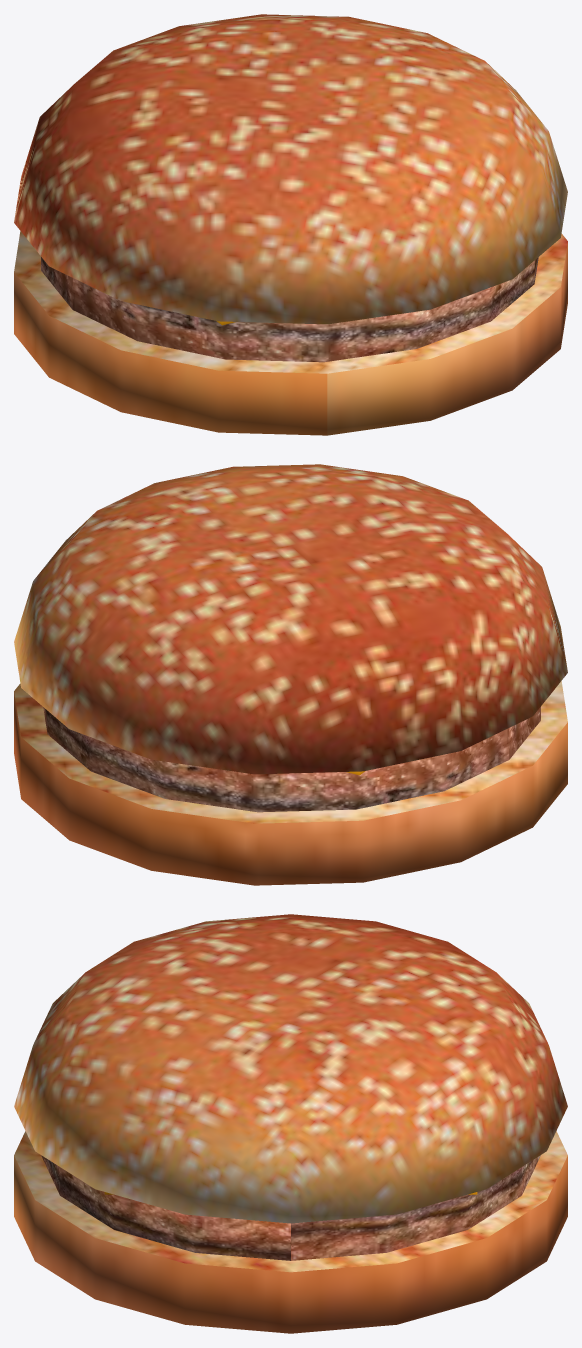
The model's file is trueburger.fbx.
The picture shows the model from 3 angles, top to bottom: view 1: azimuth 30°, elevation 25°; view 2: azimuth 150°, elevation 25°; view 3: azimuth 270°, elevation 25°; orthographic projection.
Parts seen in each view (by area): view 1: Cylinder.002; view 2: Cylinder.002; view 3: Cylinder.002.
Boxes of the visible parts, x1,y1,x2,y2 form: Cylinder.002: (14,14,567,435); Cylinder.002: (14,464,567,885); Cylinder.002: (14,914,567,1333).
Size of the model in its own units: 0.2433 by 0.1173 by 0.2433.
